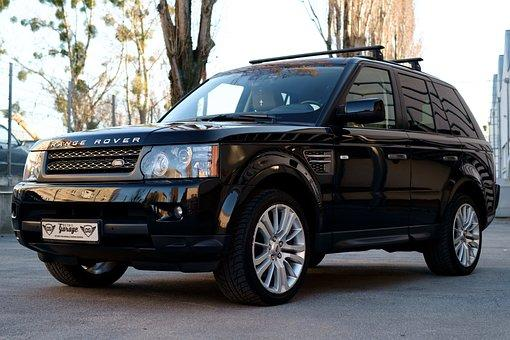range rover: (47, 133, 146, 151)
